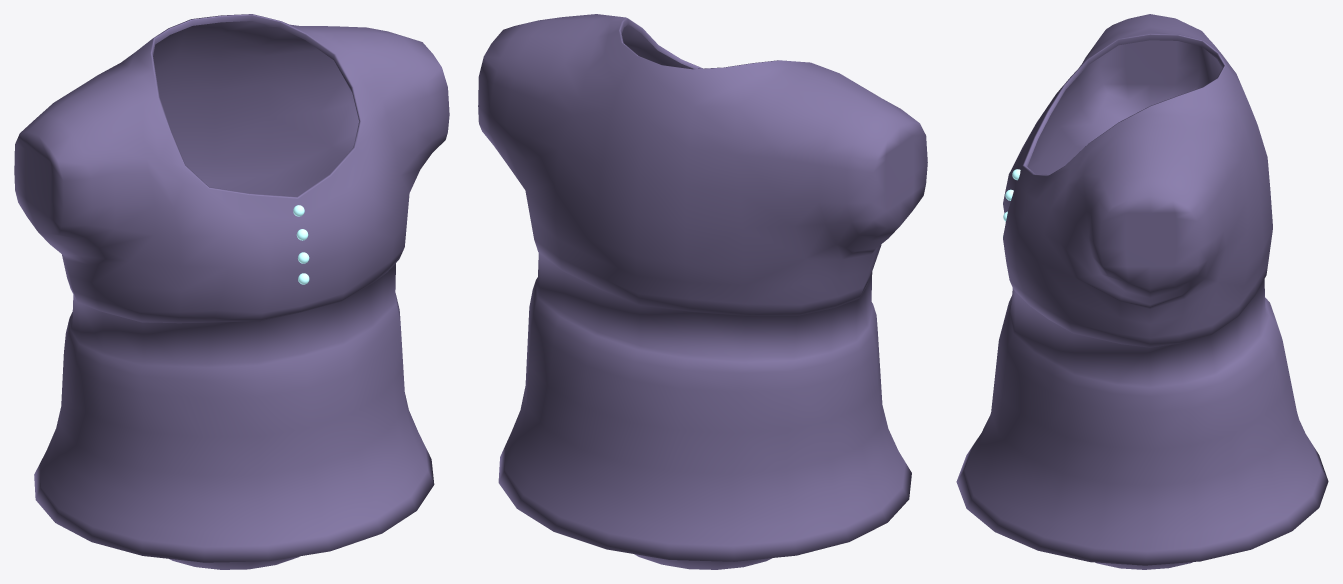
The model's file is clothes_button_dress.glb.
3 renders of one model, left to right at view 1: azimuth 30°, elevation 25°; view 2: azimuth 150°, elevation 25°; view 3: azimuth 270°, elevation 25°, orthographic. The views are drawn at different scales.
Parts seen in each view (by area): view 1: clothes_button_dress; view 2: clothes_button_dress; view 3: clothes_button_dress.
Boxes of the visible parts, x1,y1,x2,y2 form: clothes_button_dress: [14, 14, 449, 569]; clothes_button_dress: [478, 14, 927, 569]; clothes_button_dress: [956, 14, 1328, 569].
Size of the model in its own units: 0.4226 by 0.5266 by 0.3636.
